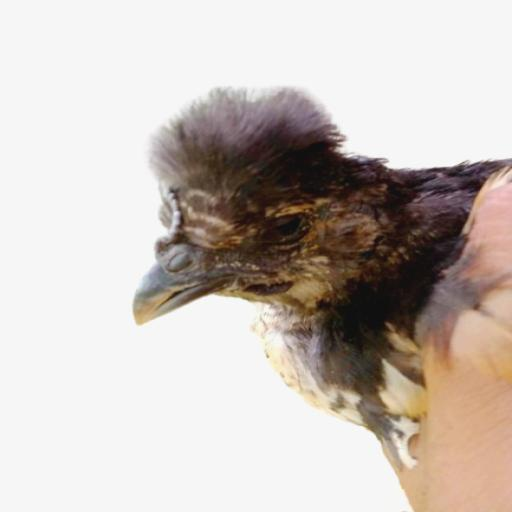disease: (190, 211, 346, 305)
